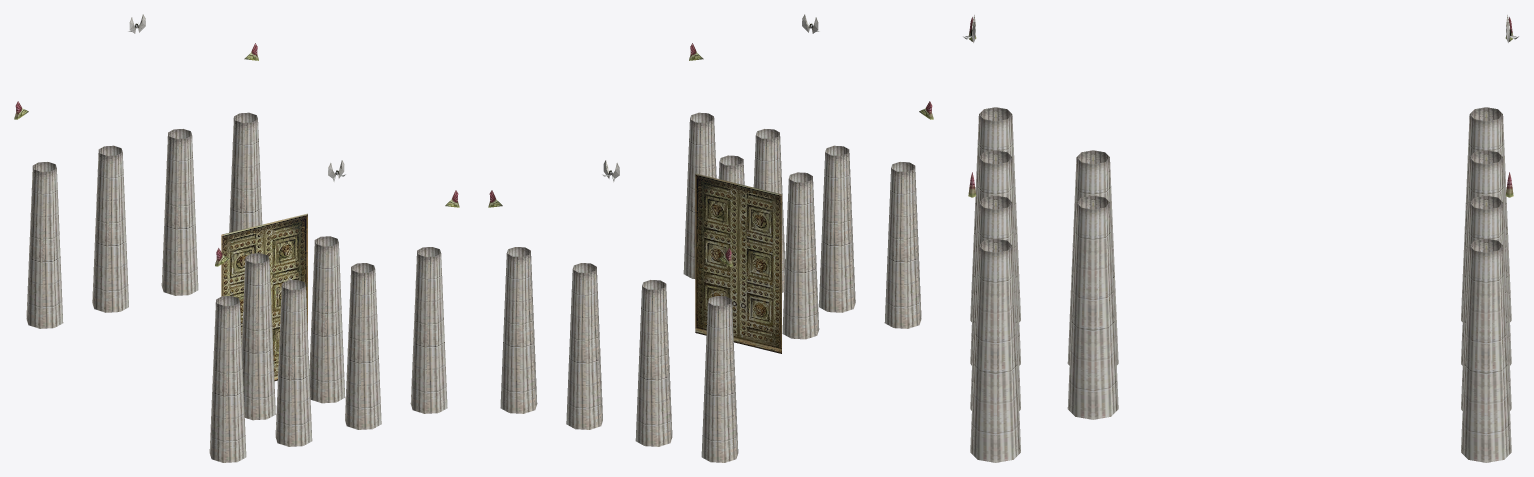
Rendered from hele_temple_c_props.dae.
3 views of the same model, side by side, from view 1: azimuth 30°, elevation 25°; view 2: azimuth 150°, elevation 25°; view 3: azimuth 270°, elevation 25° (orthographic). The views are drawn at different scales.
Parts seen in each view (by area): view 1: props; view 2: props; view 3: props.
Boxes of the visible parts, bbox=[...] form: props: bbox=[14, 14, 459, 462]; props: bbox=[488, 14, 933, 462]; props: bbox=[963, 15, 1518, 462].
Size of the model in its own units: 15.04 by 22.2 by 16.2.
